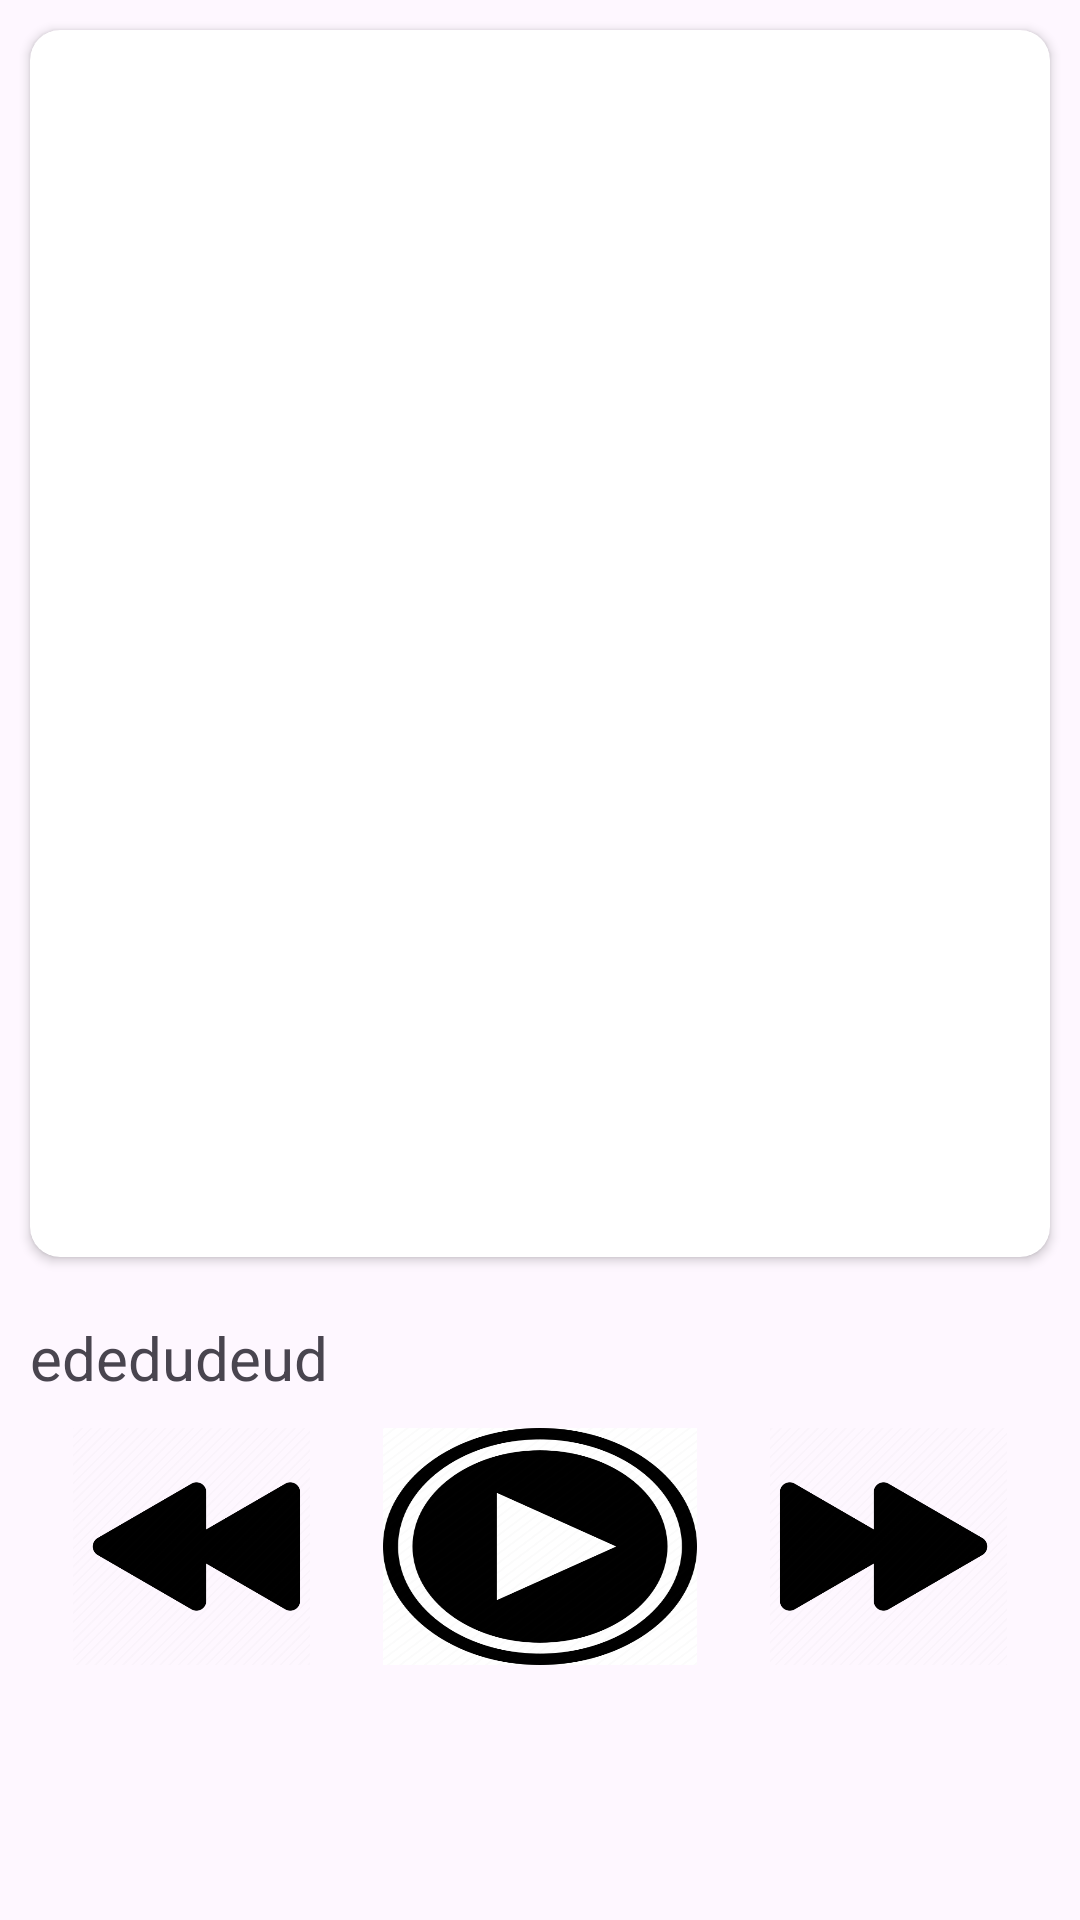

Icon click points for this 1080×1920 phone screenshot, format point (x, y):
play: point (540, 1546)
